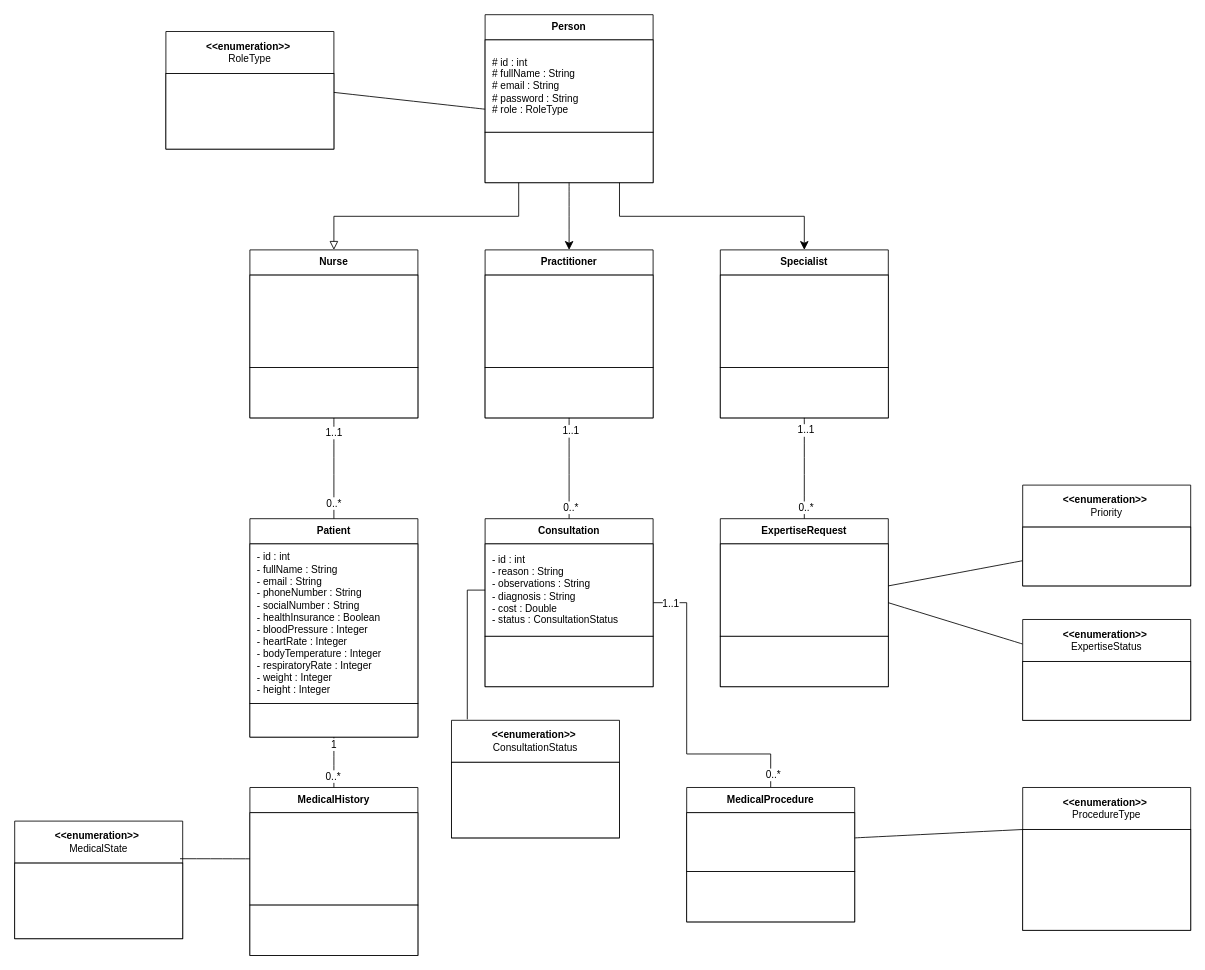
The diagram is 1205 pixels wide and 970 high, and some of its shapes have lost their labels. Here are the shapes that lost their labels. From the top down, the centre of each, then its label:
point (249, 111): NURSE PRACTITIONER SPECIALIST
point (1106, 556): URGENT NORMAL NON_URGENT
point (803, 589): - id : int - question : String - priority : Priority - status : ExpertiseStatus
point (1106, 690): PENDING COMPLETED
point (535, 799): OPEN PENDING COMPLETED
point (333, 858): - id : int - name : String - currentTreatments : String - state : MedicalState
point (770, 842): - id : int - type : ProcedureType - cost : Double
point (1106, 879): XRAY ULTRASOUND MRI ECG BLOOD_TEST URINE_TEST
point (98, 900): FINISHED
